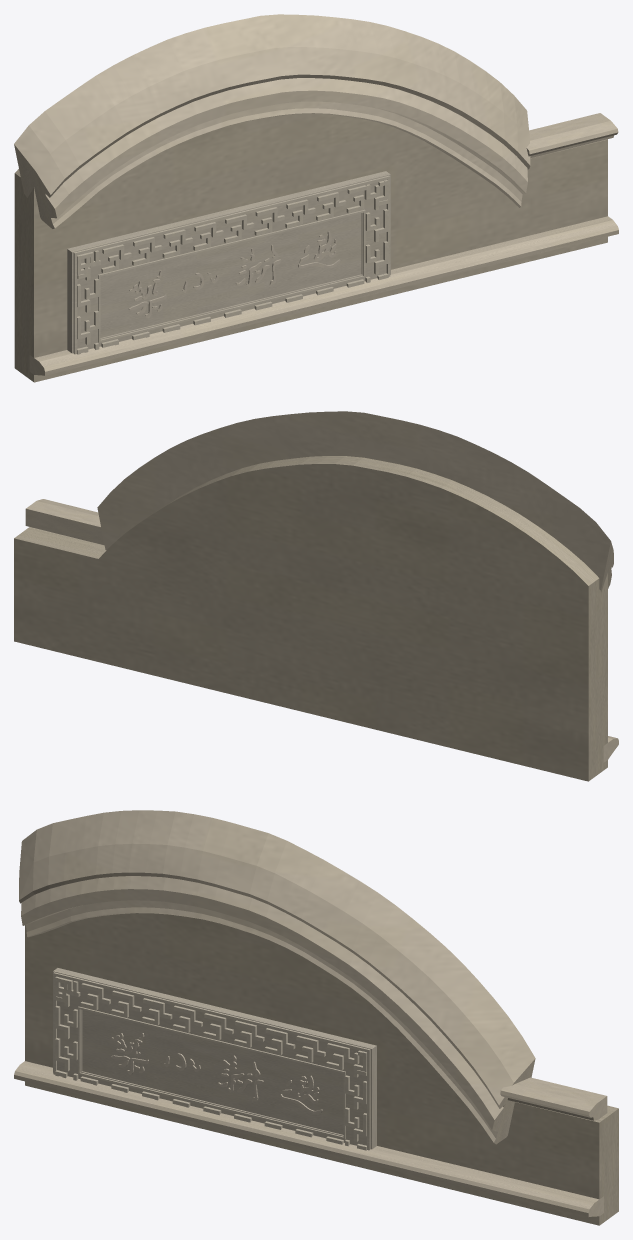
The model's file is jingan-tuigeng-xiaozhu-inscribed-courtyard-pediment-lod.glb.
The picture shows the model from 3 angles, top to bottom: view 1: azimuth 30°, elevation 25°; view 2: azimuth 150°, elevation 25°; view 3: azimuth 330°, elevation 25°; orthographic projection.
Parts seen in each view (by area): view 1: Segmental crest, Court wall, Tablet and frame, Lower drip, Top fret, Right return, Side fret 1, Side fret -1, Bottom fret, 题字 · 筑, 题字 · 退, 题字 · 耕; view 2: Court wall, Segmental crest, Right return; view 3: Segmental crest, Court wall, Tablet and frame, Lower drip, Top fret, Right return, Side fret -1, Side fret 1, Bottom fret, 题字 · 筑, 题字 · 退, 题字 · 耕.
Part boxes in pixels (<box>): Segmental crest: <box>14,14,530,228</box>; Court wall: <box>14,113,607,382</box>; Tablet and frame: <box>67,171,390,354</box>; Lower drip: <box>29,216,618,375</box>; Top fret: <box>77,181,388,278</box>; Right return: <box>526,113,618,158</box>; Side fret 1: <box>365,180,388,282</box>; Side fret -1: <box>77,250,99,354</box>; Bottom fret: <box>78,274,385,353</box>; 题字 · 筑: <box>128,270,166,318</box>; 题字 · 退: <box>298,231,340,268</box>; 题字 · 耕: <box>235,245,281,286</box>; Court wall: <box>14,456,607,781</box>; Segmental crest: <box>97,411,613,592</box>; Right return: <box>25,499,104,545</box>; Segmental crest: <box>19,810,535,1144</box>; Court wall: <box>25,913,618,1225</box>; Tablet and frame: <box>53,968,376,1150</box>; Lower drip: <box>14,1061,603,1217</box>; Top fret: <box>56,977,366,1075</box>; Right return: <box>500,1077,607,1120</box>; Side fret -1: <box>55,976,78,1080</box>; Side fret 1: <box>345,1047,366,1150</box>; Bottom fret: <box>56,1071,365,1150</box>; 题字 · 筑: <box>110,1033,148,1074</box>; 题字 · 退: <box>280,1075,322,1114</box>; 题字 · 耕: <box>218,1055,263,1101</box>.
Bounding box in the file's own units: 4.02 × 2 × 0.382.
Materials: 5 (5 with a texture image).
